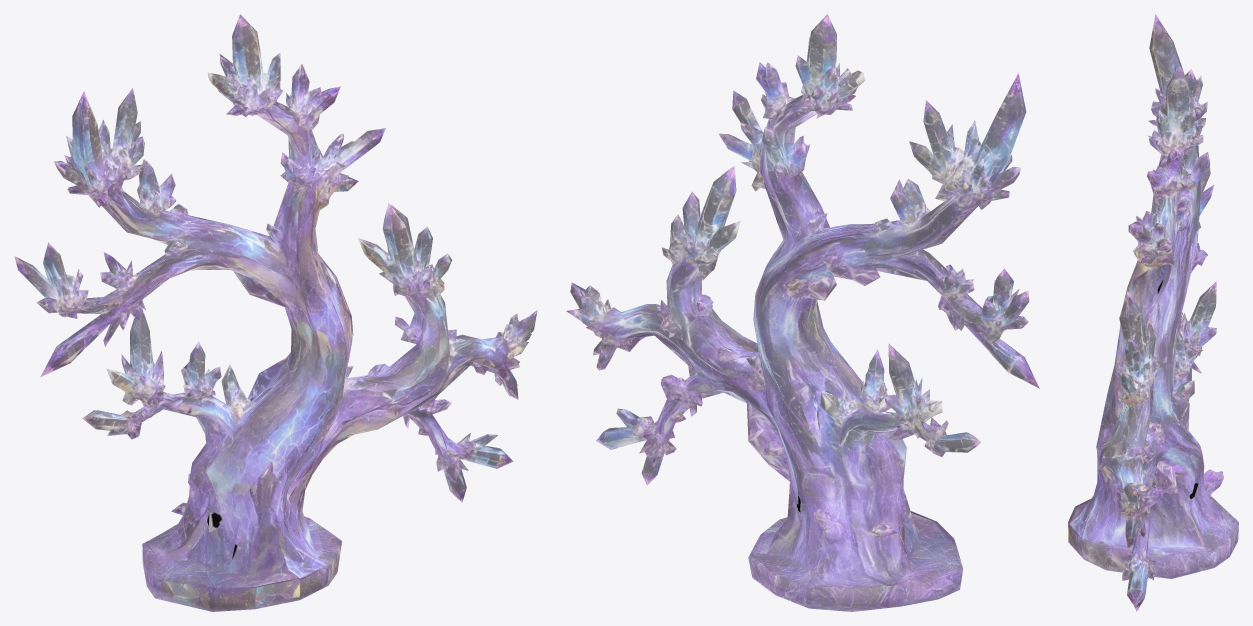
Rendered from crystal-branch-moonlit.glb.
3 renders of one model, left to right at view 1: azimuth 30°, elevation 25°; view 2: azimuth 150°, elevation 25°; view 3: azimuth 270°, elevation 25°, orthographic. The views are drawn at different scales.
Parts seen in each view (by area): view 1: Mesh1.0; view 2: Mesh1.0; view 3: Mesh1.0.
Part boxes in pixels (x1,y1,x2,y2): Mesh1.0: (14,14,537,611); Mesh1.0: (566,14,1039,611); Mesh1.0: (1068,14,1238,611).
Size of the model in its own units: 1.77 by 1.91 by 0.6127.
1 material, 1 textured.
